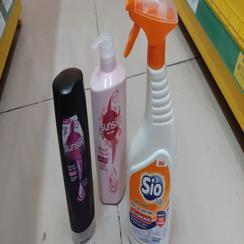sio: (121, 1, 180, 242)
sunsilk black: (47, 66, 99, 242)
sunsilk pink: (88, 27, 132, 205)
